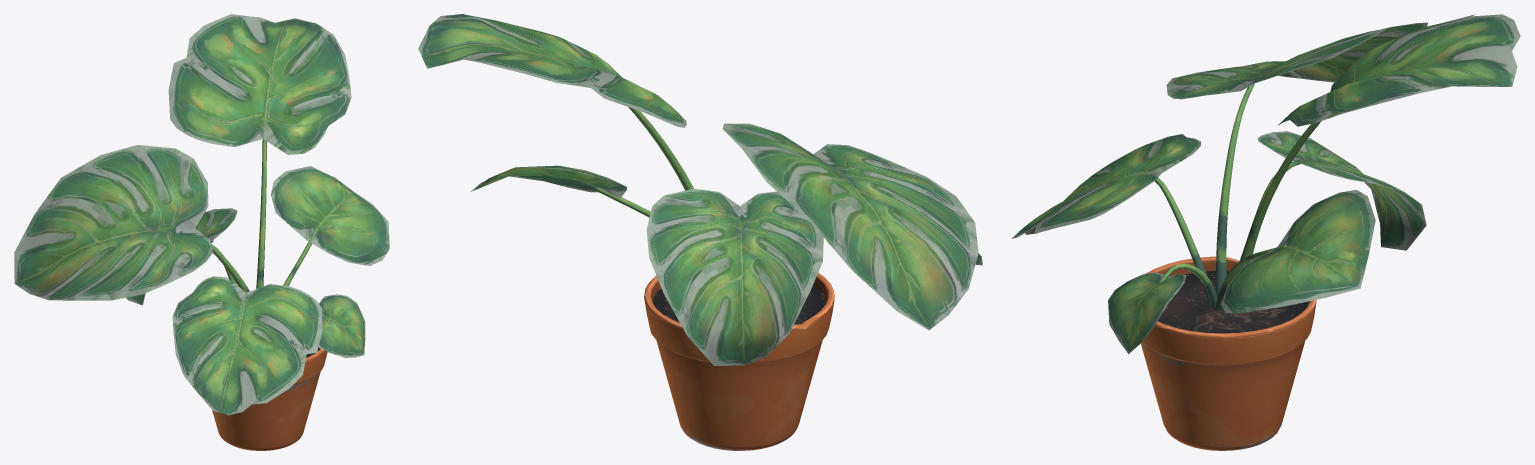
File: PottedPlant.fbx
3 renders of one model, left to right at view 1: azimuth 30°, elevation 25°; view 2: azimuth 150°, elevation 25°; view 3: azimuth 270°, elevation 25°, orthographic. The views are drawn at different scales.
Parts seen in each view (by area): view 1: Combined_PottedPlant; view 2: Combined_PottedPlant; view 3: Combined_PottedPlant.
Boxes of the visible parts, x1,y1,x2,y2 form: Combined_PottedPlant: [14, 14, 389, 450]; Combined_PottedPlant: [418, 14, 982, 450]; Combined_PottedPlant: [1011, 14, 1520, 450].
Size of the model in its own units: 129 by 117 by 121.
